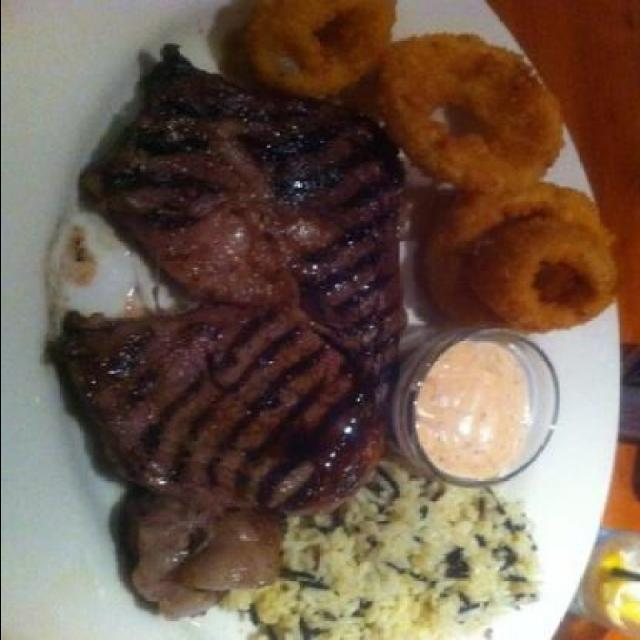Steak: (70, 126, 418, 537)
